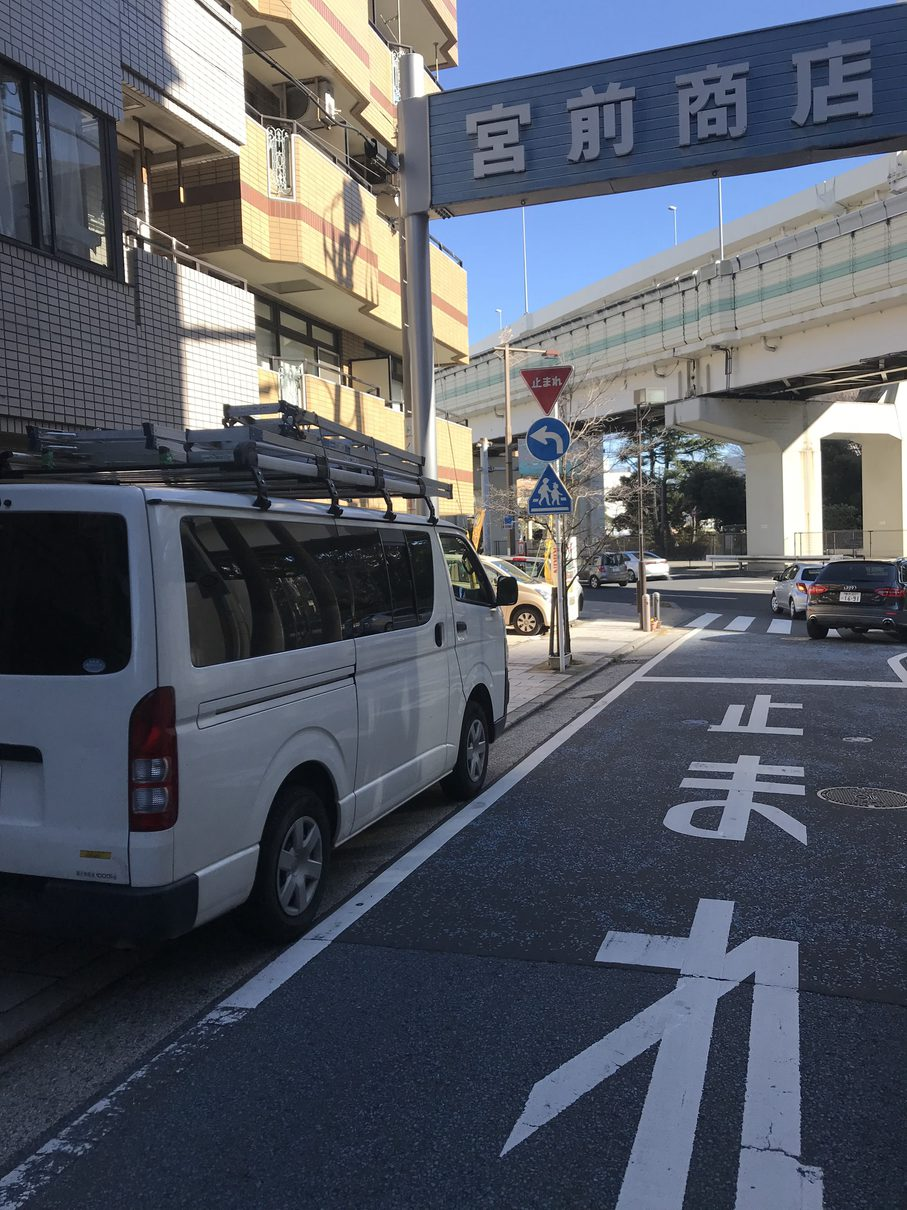stop_sign: (519, 364, 574, 416)
